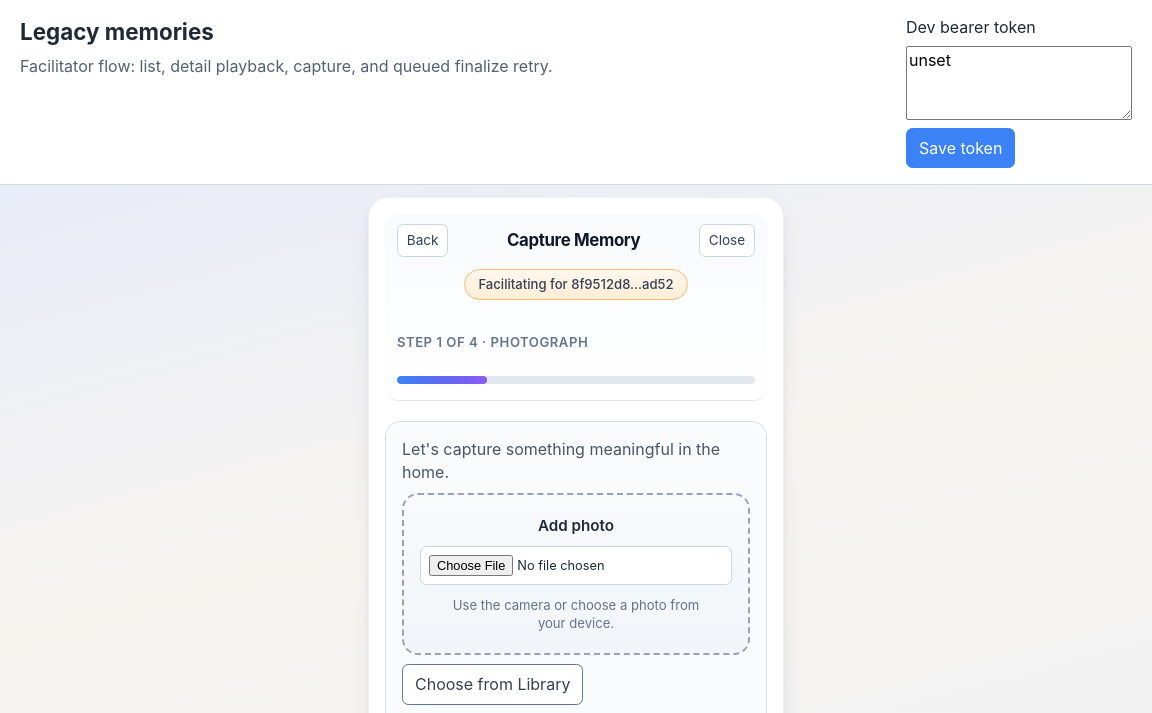
it: capture flow smoke › shows Coming Soon when a deferred capture control is used
Click the button "Choose from Library": (493, 684) x1=402 y1=664 x2=583 y2=704
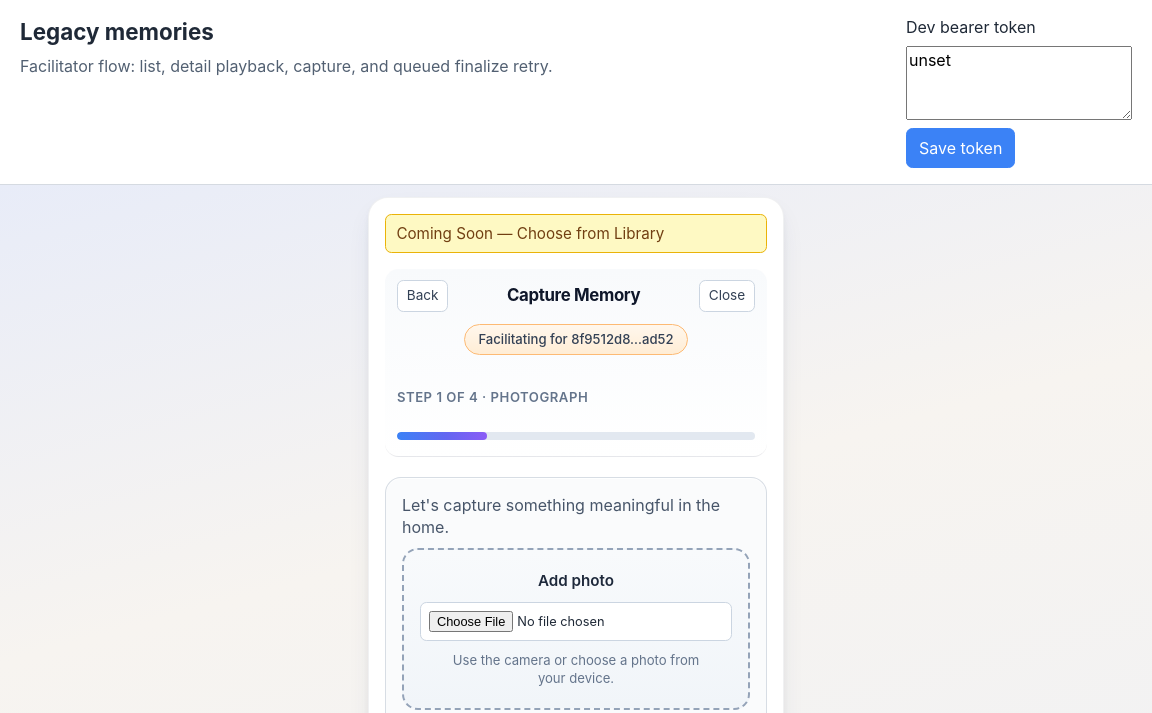
Now the message reads "Coming Soon — Choose from Library", box x1=396 y1=224 x2=664 y2=243
